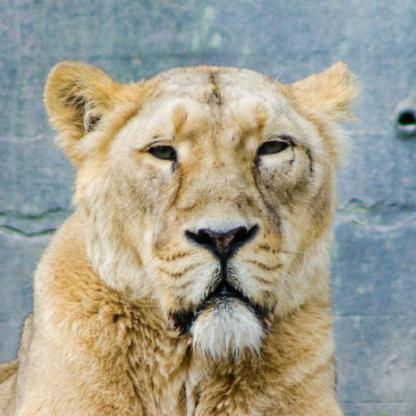lion: (48, 56, 330, 338)
